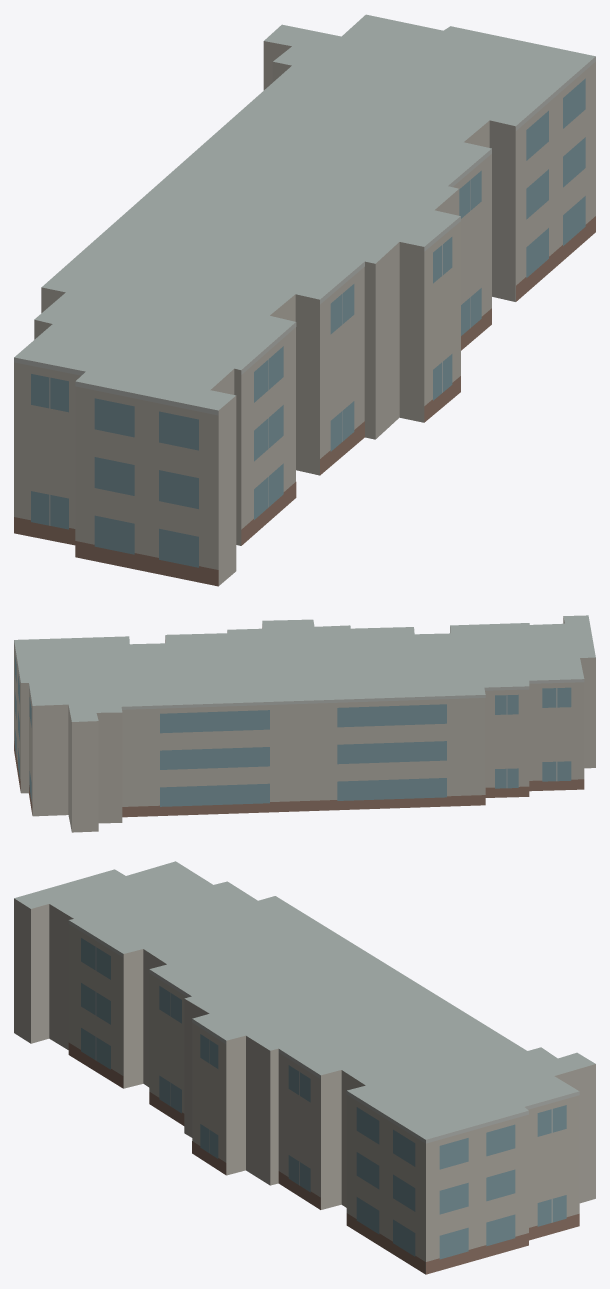
Rendered from survey-upis-32469824.glb.
3 views of the same model, one above another, from view 1: azimuth 30°, elevation 25°; view 2: azimuth 150°, elevation 25°; view 3: azimuth 270°, elevation 25° (orthographic). The views are drawn at different scales.
Visible parts, largest first — view 1: survey-upis-32469824.tmp; view 2: survey-upis-32469824.tmp; view 3: survey-upis-32469824.tmp.
Part boxes in pixels (x1,y1,x2,y2): survey-upis-32469824.tmp: (14, 14, 595, 586); survey-upis-32469824.tmp: (14, 615, 595, 832); survey-upis-32469824.tmp: (14, 861, 595, 1274).
Bounding box in the file's own units: 38.12 × 8.6 × 33.65.
